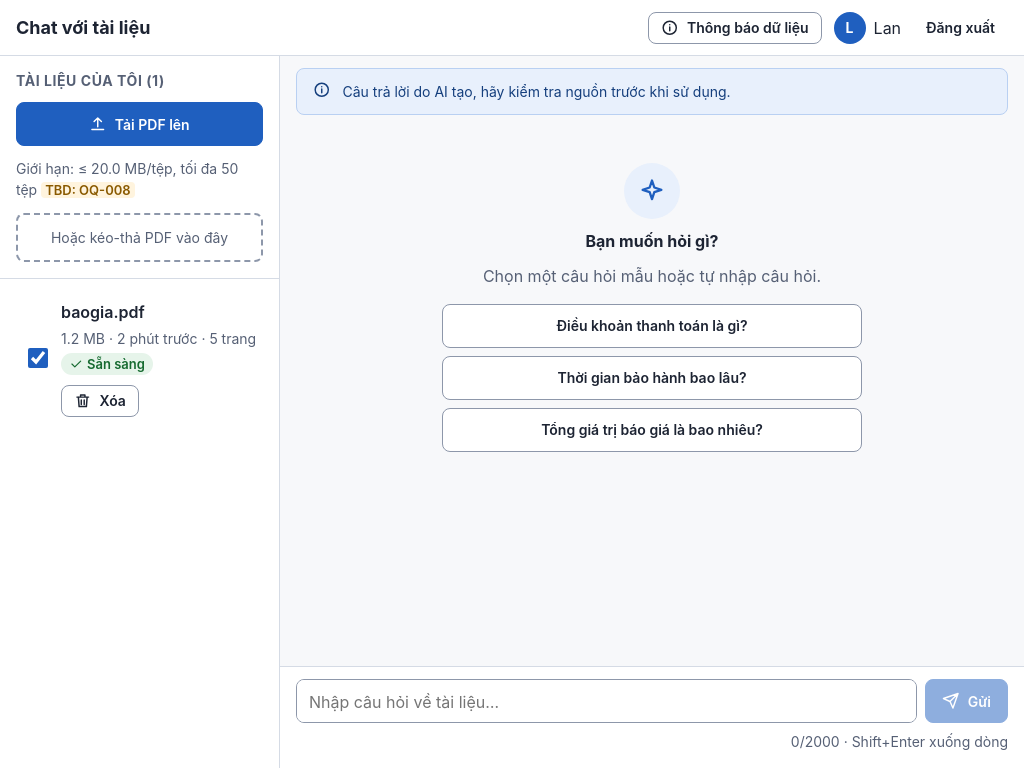
Test: Workspace — tài liệu › xóa lỗi: giữ hộp thoại để thử lại và báo lỗi
Step 1. Click the button with aria-label "Xóa baogia.pdf" → (100, 401), box [61, 385, 139, 417]
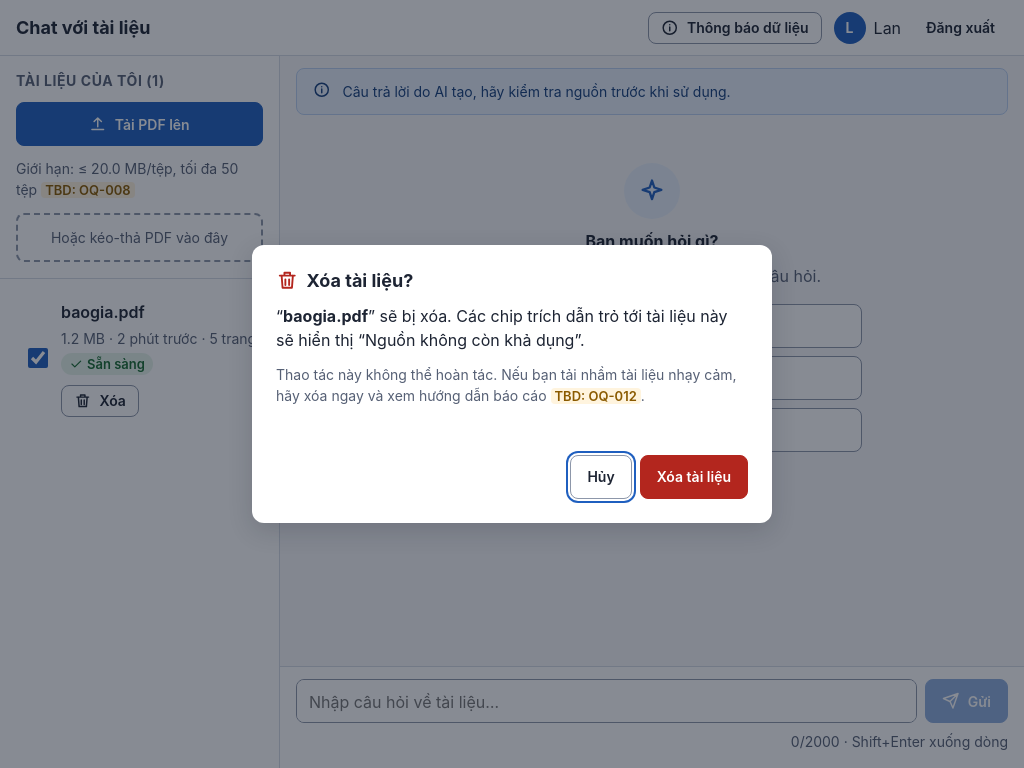
Step 2. Click the button "Xóa tài liệu" → (694, 477), box [640, 455, 748, 499]
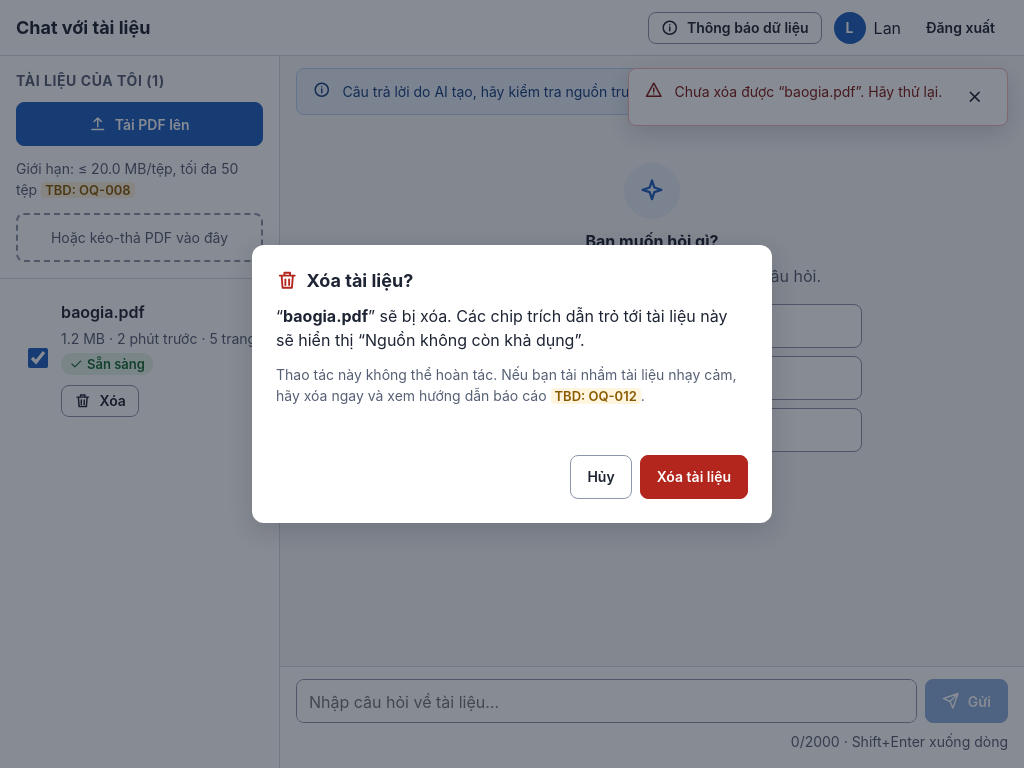
Now the text "Chưa xóa được “baogia.pdf”. Hãy thử lại." is shown, box [674, 81, 947, 102]
